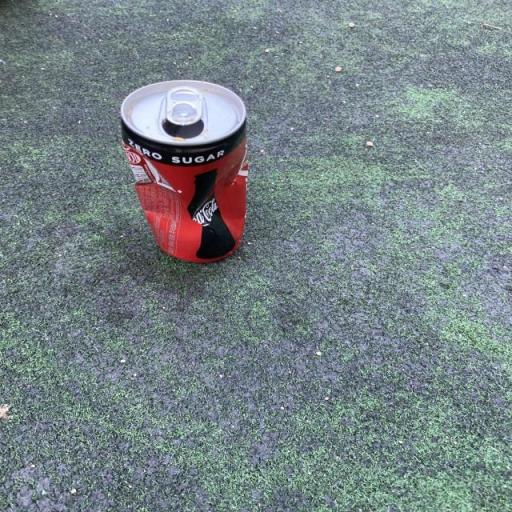metal: (96, 66, 280, 276)
